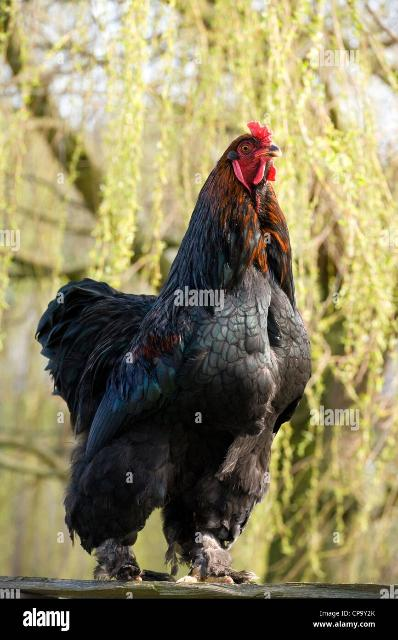Chicken: (38, 120, 314, 580)
